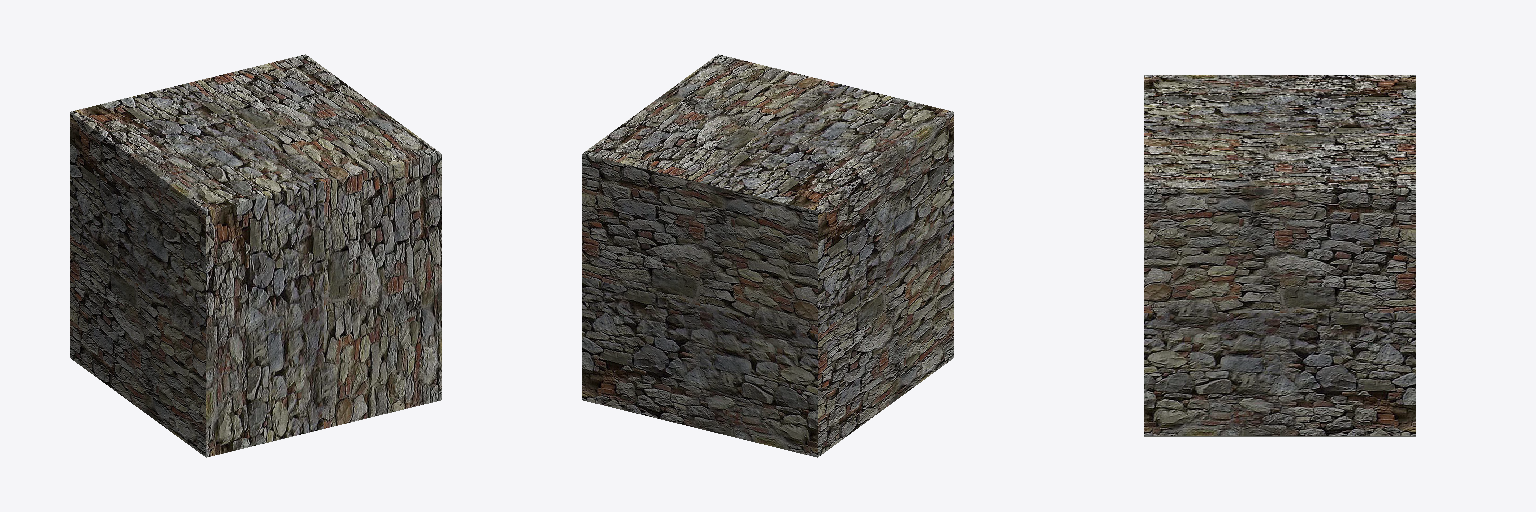
3 renders of one model, left to right at view 1: azimuth 30°, elevation 25°; view 2: azimuth 150°, elevation 25°; view 3: azimuth 270°, elevation 25°, orthographic.
Visible parts, largest first — view 1: default; view 2: default; view 3: default.
Part boxes in pixels (x1,y1,x2,y2): default: (70,54,441,457); default: (582,54,953,457); default: (1144,75,1415,436).
Bounding box in the file's own units: 3.8 × 3.8 × 3.8.
Materials: 1 (1 with a texture image).